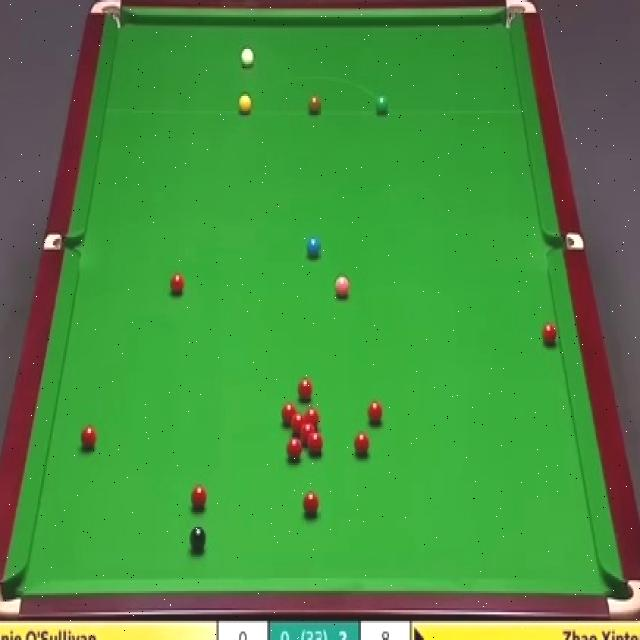black-ball: (190, 525, 208, 550)
blue-ball: (306, 234, 321, 262)
brown-ball: (307, 94, 321, 114)
green-ball: (375, 94, 389, 114)
pink-ball: (334, 277, 350, 301)
red-ball: (78, 422, 96, 450), (302, 490, 320, 518), (280, 400, 299, 426), (296, 377, 316, 401), (353, 432, 370, 457), (191, 484, 208, 509), (286, 436, 302, 462), (542, 321, 558, 347), (366, 401, 384, 424), (304, 408, 320, 433), (290, 414, 308, 436), (307, 434, 324, 457), (169, 275, 185, 294), (300, 424, 315, 442)
white-ball: (240, 46, 257, 69)
yellow-ball: (238, 94, 252, 114)
